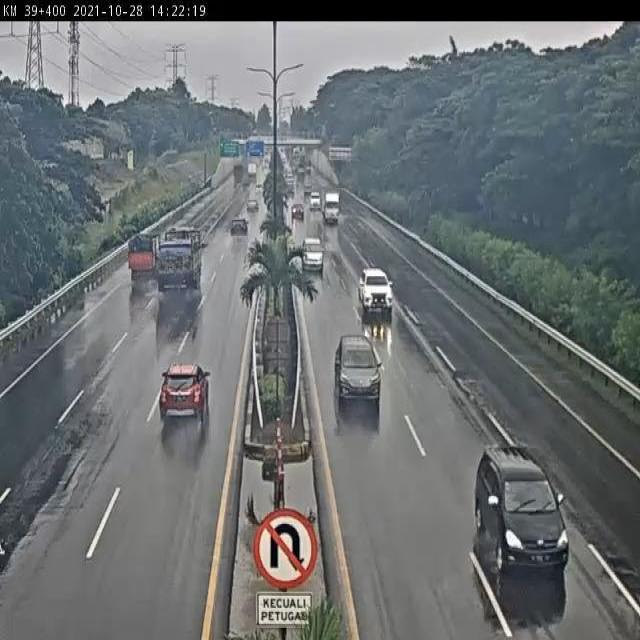ARABA: (472, 438, 574, 574), (330, 327, 384, 402), (158, 364, 211, 427), (356, 266, 397, 314), (301, 234, 326, 270), (227, 214, 249, 242), (289, 199, 306, 221), (245, 193, 260, 216)
KAMYONET: (126, 232, 162, 283), (321, 187, 343, 228)
TIR: (152, 226, 205, 294)
